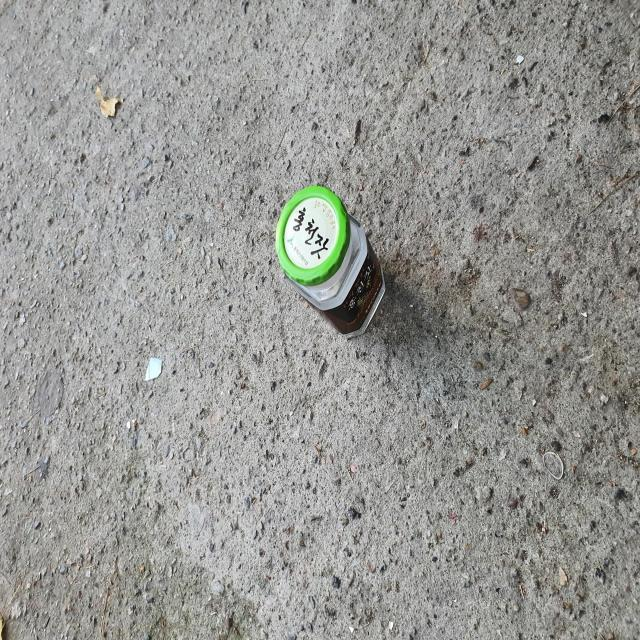glass: (276, 185, 385, 337)
